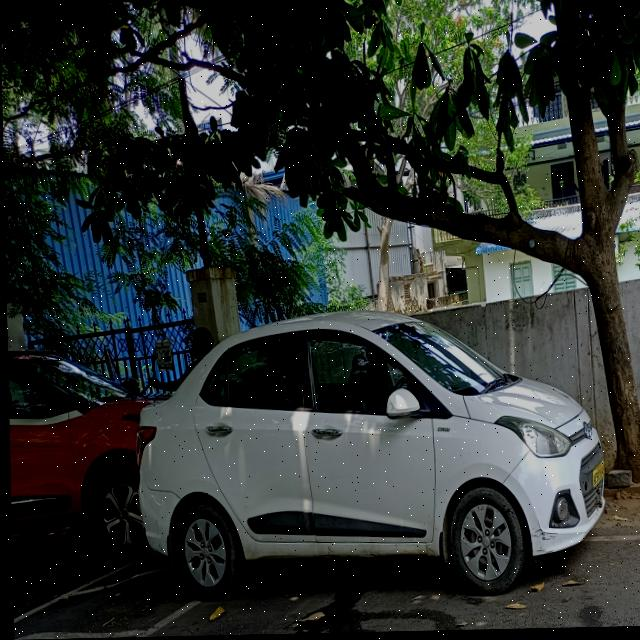car: (123, 282, 609, 607)
